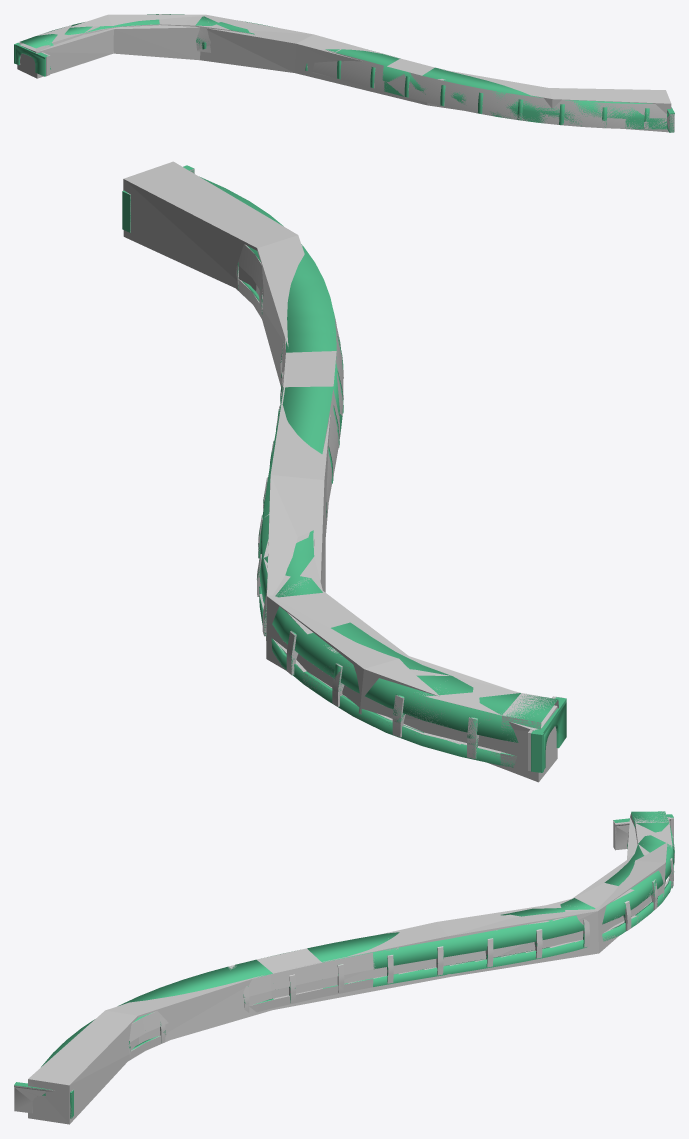
Rendered from jri_tunnel_mountain_3.dae.
3 views of the same model, one above another, from view 1: azimuth 30°, elevation 25°; view 2: azimuth 150°, elevation 25°; view 3: azimuth 270°, elevation 25° (orthographic). The views are drawn at different scales.
Parts seen in each view (by area): view 1: ind_bld_a260, ind_bld_a2100, Colmesh-1, ind_bld_a600; view 2: ind_bld_a260, Colmesh-1, ind_bld_a600, ind_bld_a2100; view 3: ind_bld_a260, Colmesh-1, ind_bld_a600, ind_bld_a2100.
Part boxes in pixels (x1=…): ind_bld_a260: x1=17, y1=14, x2=671, y2=132; ind_bld_a2100: x1=19, y1=21, x2=674, y2=132; Colmesh-1: x1=14, y1=14, x2=674, y2=132; ind_bld_a600: x1=20, y1=14, x2=674, y2=132; ind_bld_a260: x1=123, y1=161, x2=557, y2=782; Colmesh-1: x1=122, y1=165, x2=566, y2=772; ind_bld_a600: x1=127, y1=168, x2=558, y2=767; ind_bld_a2100: x1=130, y1=169, x2=563, y2=771; ind_bld_a260: x1=28, y1=817, x2=669, y2=1124; Colmesh-1: x1=14, y1=811, x2=674, y2=1118; ind_bld_a600: x1=14, y1=811, x2=674, y2=1118; ind_bld_a2100: x1=14, y1=813, x2=674, y2=1117.
Bounding box in the file's own units: 193 × 188 × 18.36.
